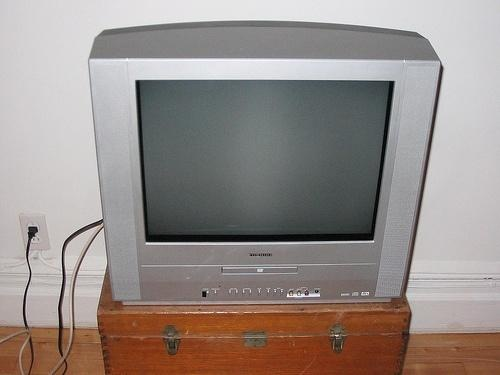tvmonitor: (91, 27, 444, 308)
